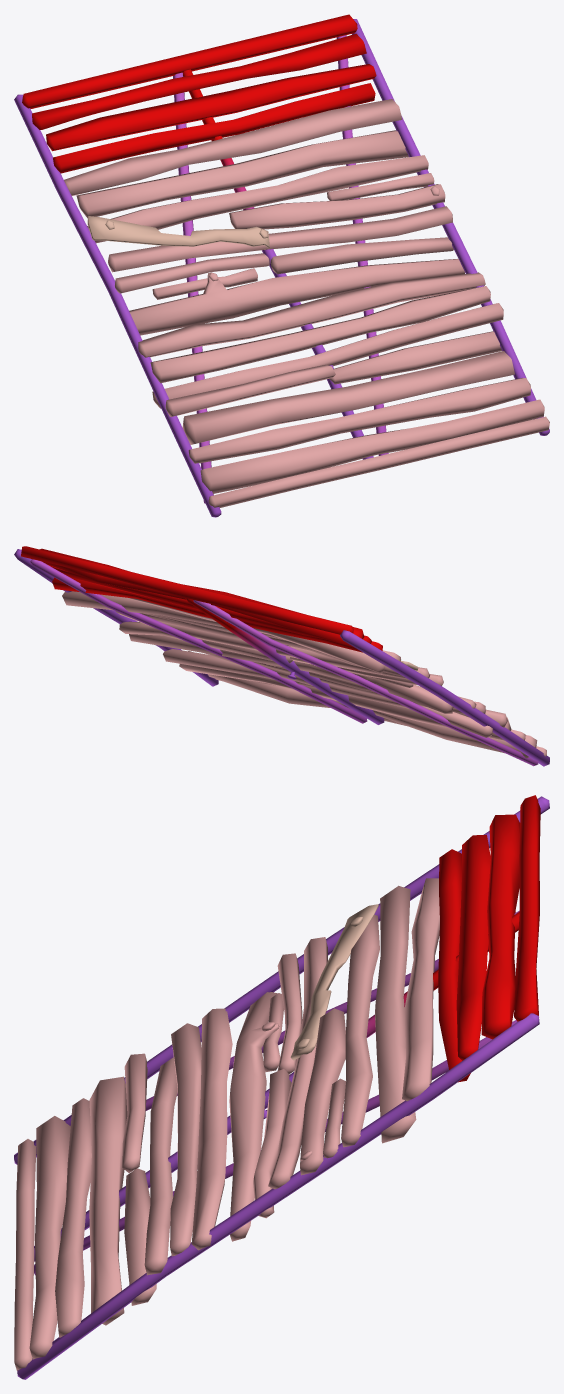
Rendered from PBW_W1_StairW.glb.
The picture shows the model from 3 angles, top to bottom: view 1: azimuth 30°, elevation 25°; view 2: azimuth 150°, elevation 25°; view 3: azimuth 270°, elevation 25°; orthographic projection. The views are drawn at different scales.
Visible parts, largest first — view 1: PBW_W1_StairW; view 2: PBW_W1_StairW; view 3: PBW_W1_StairW.
Boxes of the visible parts, x1=… form: PBW_W1_StairW: x1=14, y1=14, x2=549, y2=517; PBW_W1_StairW: x1=14, y1=546, x2=549, y2=766; PBW_W1_StairW: x1=14, y1=795, x2=549, y2=1379.
Bounding box in the file's own units: 5.15 × 4.03 × 5.24.
